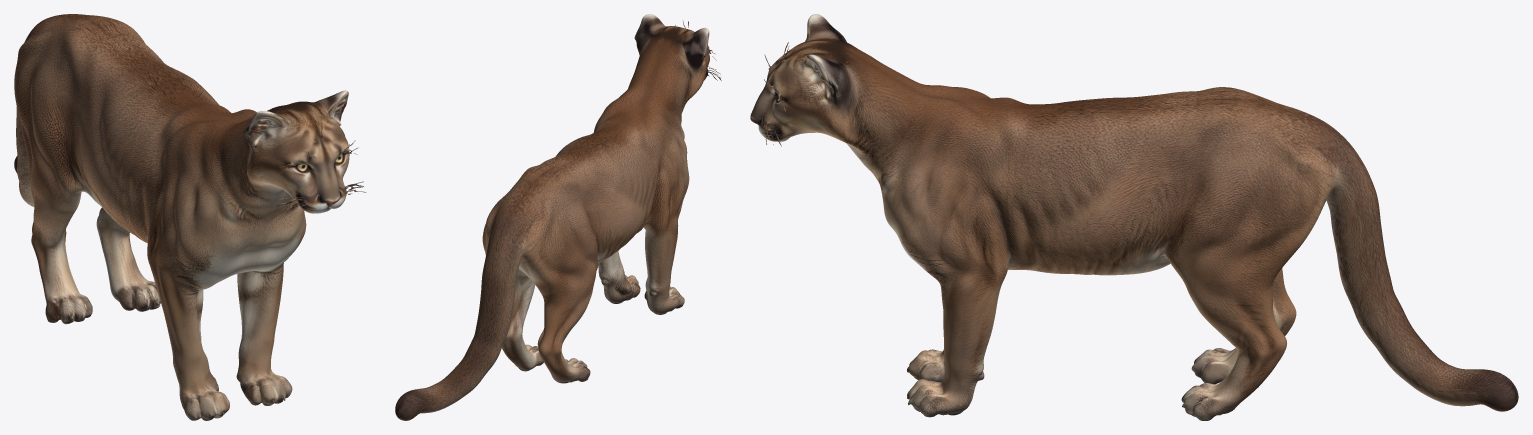
Rendered from nm__puma.glb.
3 views of the same model, side by side, from view 1: azimuth 30°, elevation 25°; view 2: azimuth 150°, elevation 25°; view 3: azimuth 270°, elevation 25° (orthographic). The views are drawn at different scales.
Parts seen in each view (by area): view 1: Object_5, Object_6; view 2: Object_6, Object_5; view 3: Object_5, Object_6.
Boxes of the visible parts, bbox=[...] form: Object_5: bbox=[14, 16, 366, 420]; Object_6: bbox=[14, 14, 283, 411]; Object_6: bbox=[427, 87, 688, 410]; Object_5: bbox=[395, 14, 721, 420]; Object_5: bbox=[750, 14, 1518, 420]; Object_6: bbox=[906, 85, 1459, 420].
Size of the model in its own units: 0.4269 by 1 by 1.9.
1 material, 1 textured.
